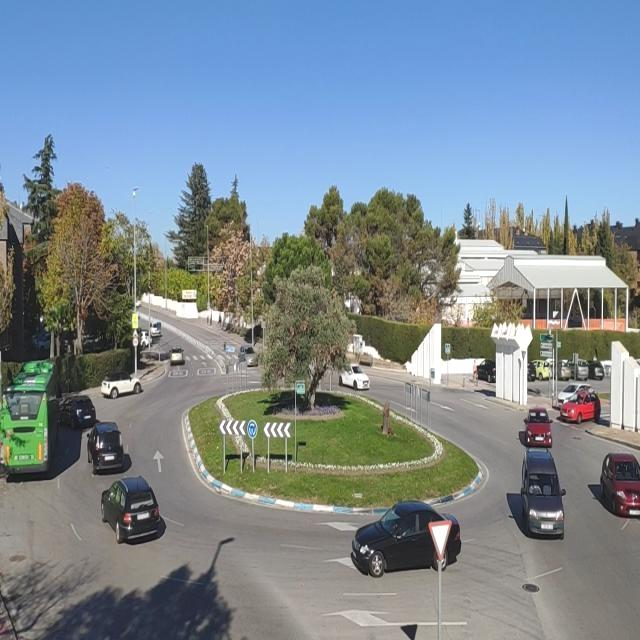Bus: (0, 360, 61, 476)
Car: (352, 499, 462, 579), (99, 476, 160, 543), (599, 453, 640, 517), (86, 422, 126, 473), (558, 388, 600, 423), (58, 395, 96, 429), (523, 408, 553, 446), (101, 372, 142, 399), (555, 383, 594, 408), (339, 365, 370, 390), (564, 358, 590, 381), (546, 360, 575, 380), (528, 359, 554, 381), (238, 345, 259, 367), (476, 359, 496, 382), (584, 361, 605, 380), (32, 331, 50, 351), (170, 347, 185, 365), (139, 330, 151, 347), (150, 322, 162, 338)
Van: (520, 446, 567, 538)
